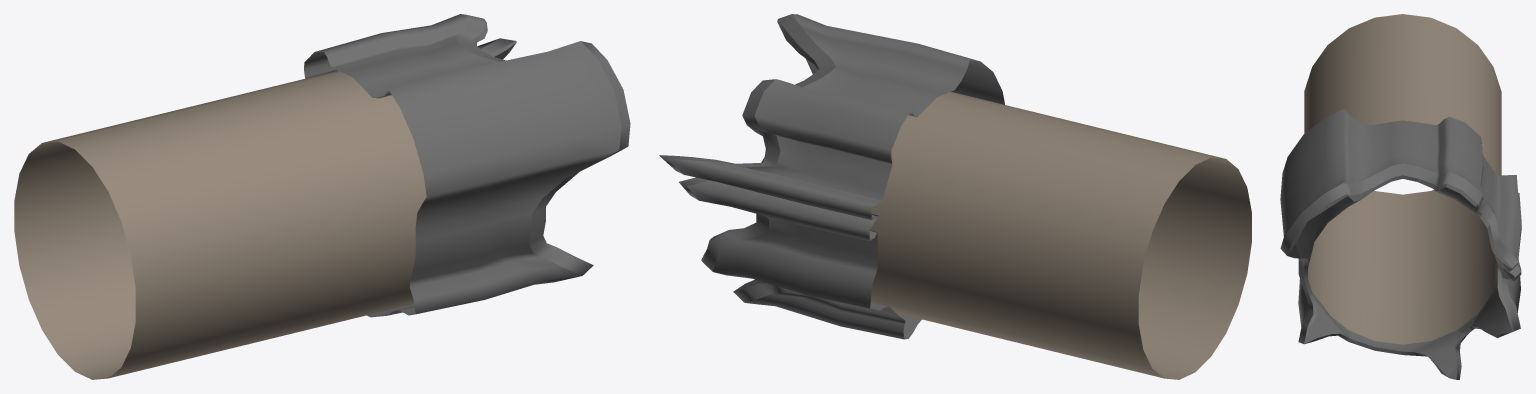
Rendered from mesh_TileRedondoRoto2.fbx.
3 renders of one model, left to right at view 1: azimuth 30°, elevation 25°; view 2: azimuth 150°, elevation 25°; view 3: azimuth 270°, elevation 25°, orthographic. The views are drawn at different scales.
Parts seen in each view (by area): view 1: TileRedondoRoto2; view 2: TileRedondoRoto2; view 3: TileRedondoRoto2.
Boxes of the visible parts, left/top/right/bottom form: TileRedondoRoto2: left=14, top=14, right=630, bottom=379; TileRedondoRoto2: left=659, top=14, right=1251, bottom=379; TileRedondoRoto2: left=1280, top=14, right=1521, bottom=379.
Size of the model in its own units: 3785 by 1817 by 1914.
